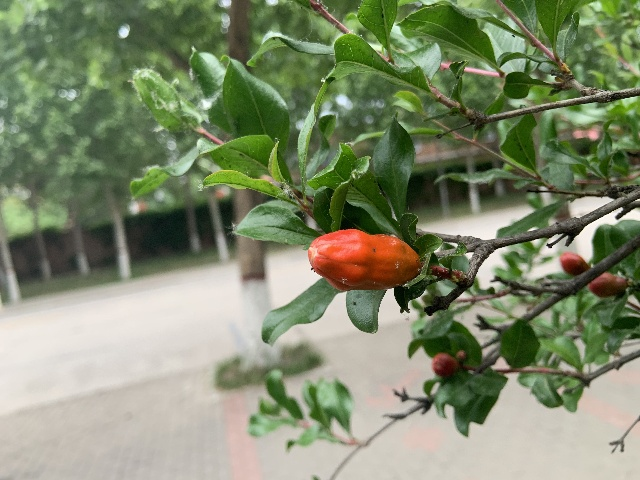bud: (307, 227, 420, 290), (587, 272, 626, 297), (559, 251, 589, 275), (431, 352, 458, 377)
